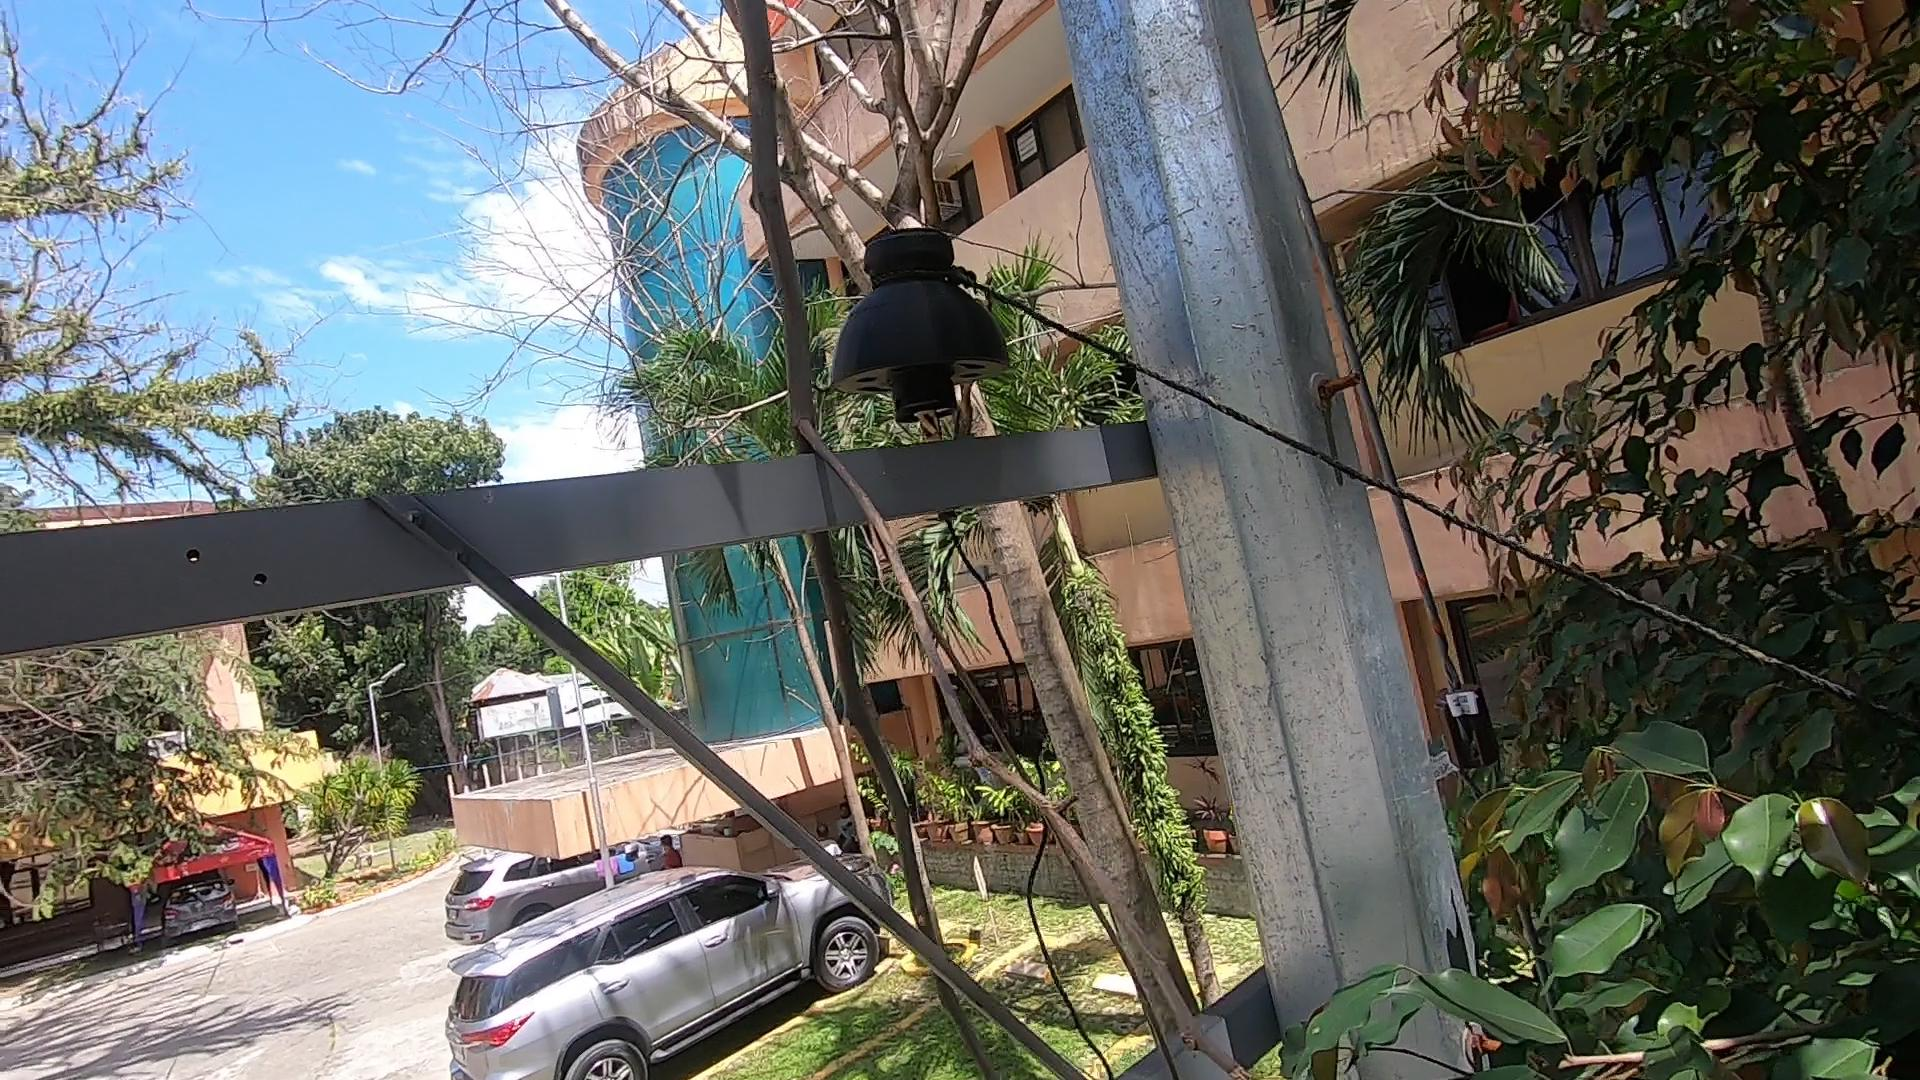tree branch: (702, 1, 1269, 1077)
